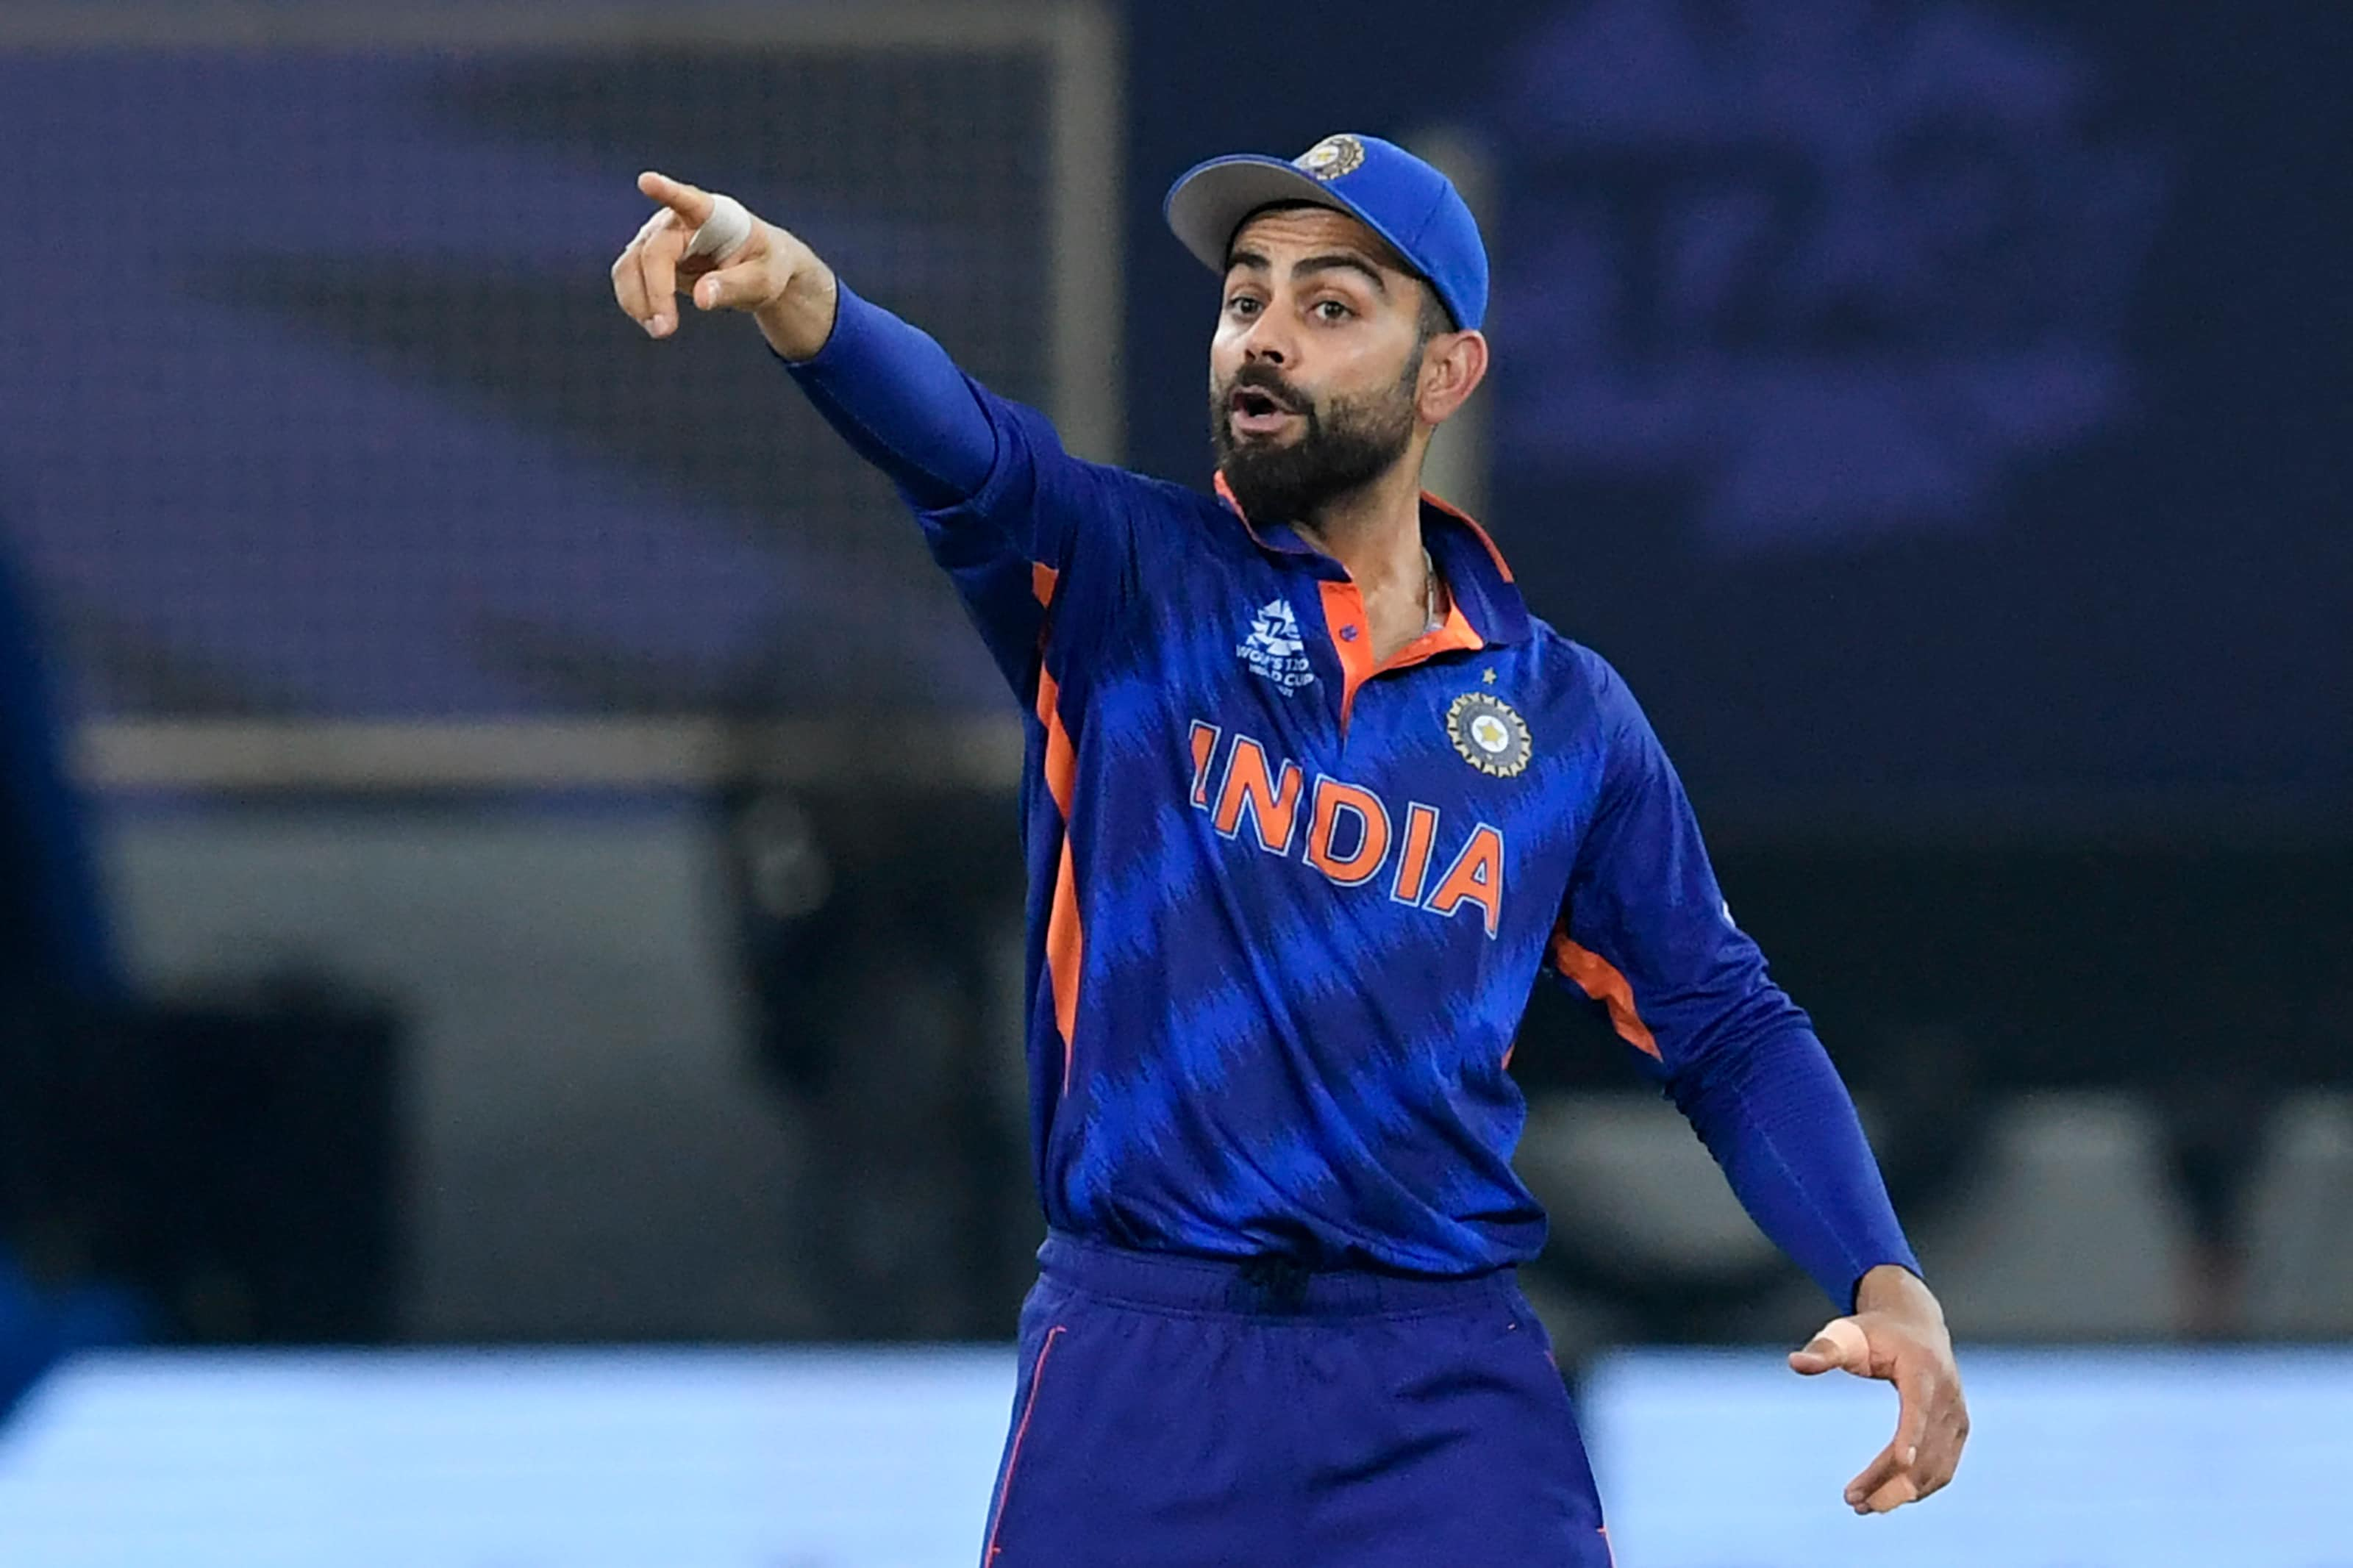NoMask: (1210, 240, 1379, 509)
